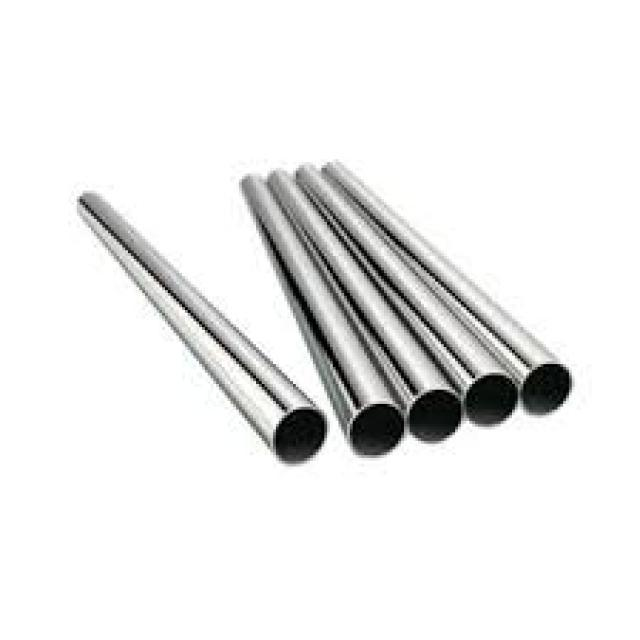pipe: (351, 405, 405, 456), (409, 391, 462, 442), (276, 410, 327, 463), (466, 375, 518, 426), (523, 365, 571, 414)
